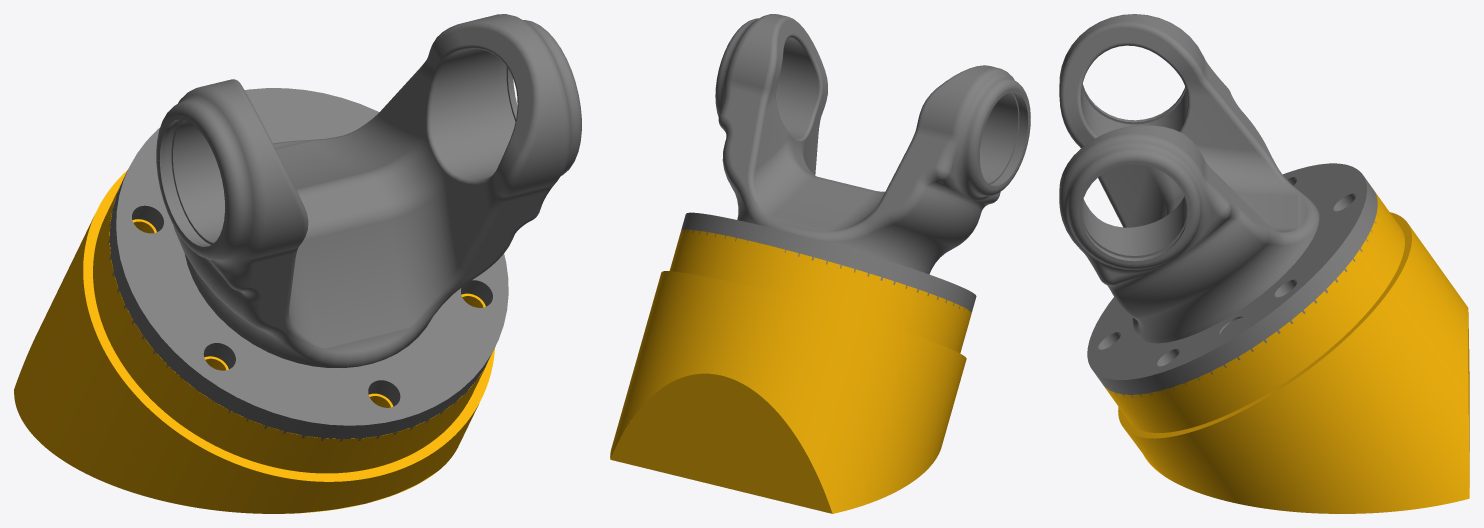
File: cardan_bas5_2.dae
3 views of the same model, side by side, from view 1: azimuth 30°, elevation 25°; view 2: azimuth 150°, elevation 25°; view 3: azimuth 270°, elevation 25° (orthographic). The views are drawn at different scales.
Parts seen in each view (by area): view 1: STD04_0300_Articulation MISTRAL 600_M600_6, STD04_0300_Articulation MISTRAL 600_M600_4_6; view 2: STD04_0300_Articulation MISTRAL 600_M600_4_6, STD04_0300_Articulation MISTRAL 600_M600_6; view 3: STD04_0300_Articulation MISTRAL 600_M600_6, STD04_0300_Articulation MISTRAL 600_M600_4_6.
Boxes of the visible parts, x1,y1,x2,y2 form: STD04_0300_Articulation MISTRAL 600_M600_6: (108, 14, 581, 441); STD04_0300_Articulation MISTRAL 600_M600_4_6: (14, 170, 494, 513); STD04_0300_Articulation MISTRAL 600_M600_4_6: (610, 229, 971, 513); STD04_0300_Articulation MISTRAL 600_M600_6: (681, 14, 1030, 312); STD04_0300_Articulation MISTRAL 600_M600_6: (1059, 14, 1378, 397); STD04_0300_Articulation MISTRAL 600_M600_4_6: (1102, 191, 1469, 513).
Size of the model in its own units: 0.105 by 0.1229 by 0.1215.
